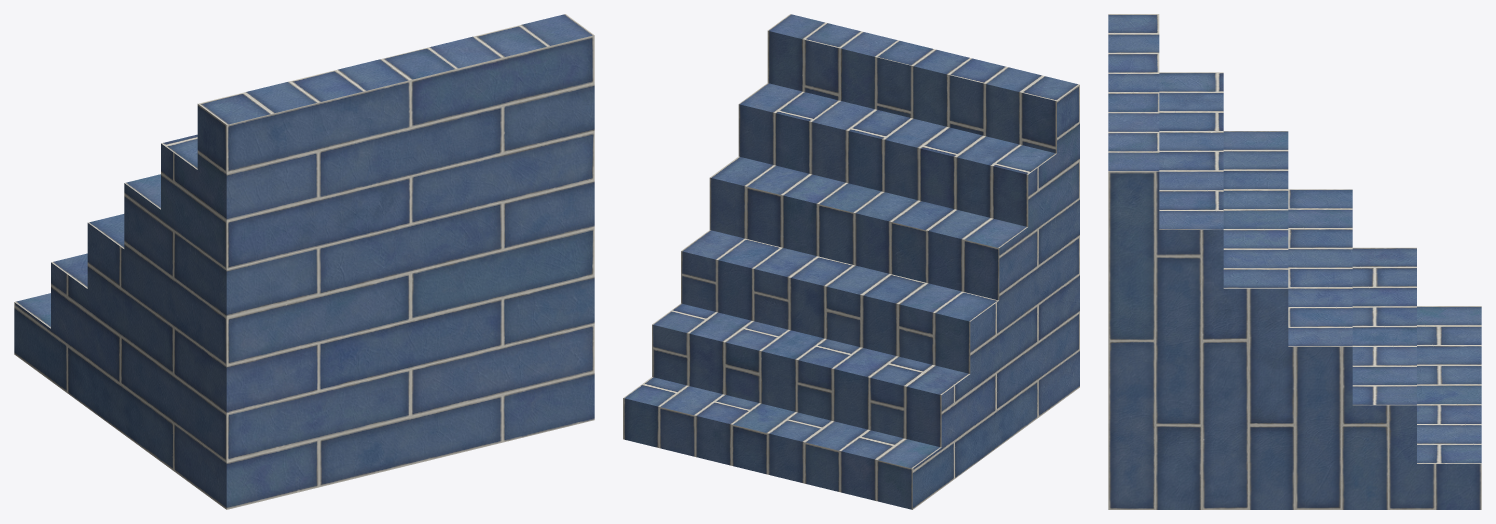
File: stair.fbx
3 renders of one model, left to right at view 1: azimuth 30°, elevation 25°; view 2: azimuth 150°, elevation 25°; view 3: azimuth 270°, elevation 25°, orthographic. The views are drawn at different scales.
Parts seen in each view (by area): view 1: Cube.002; view 2: Cube.002; view 3: Cube.002.
Boxes of the visible parts, x1,y1,x2,y2 form: Cube.002: [14, 14, 594, 509]; Cube.002: [623, 14, 1079, 509]; Cube.002: [1108, 14, 1481, 509].
Size of the model in its own units: 200 by 200 by 200.
1 material, 1 textured.
